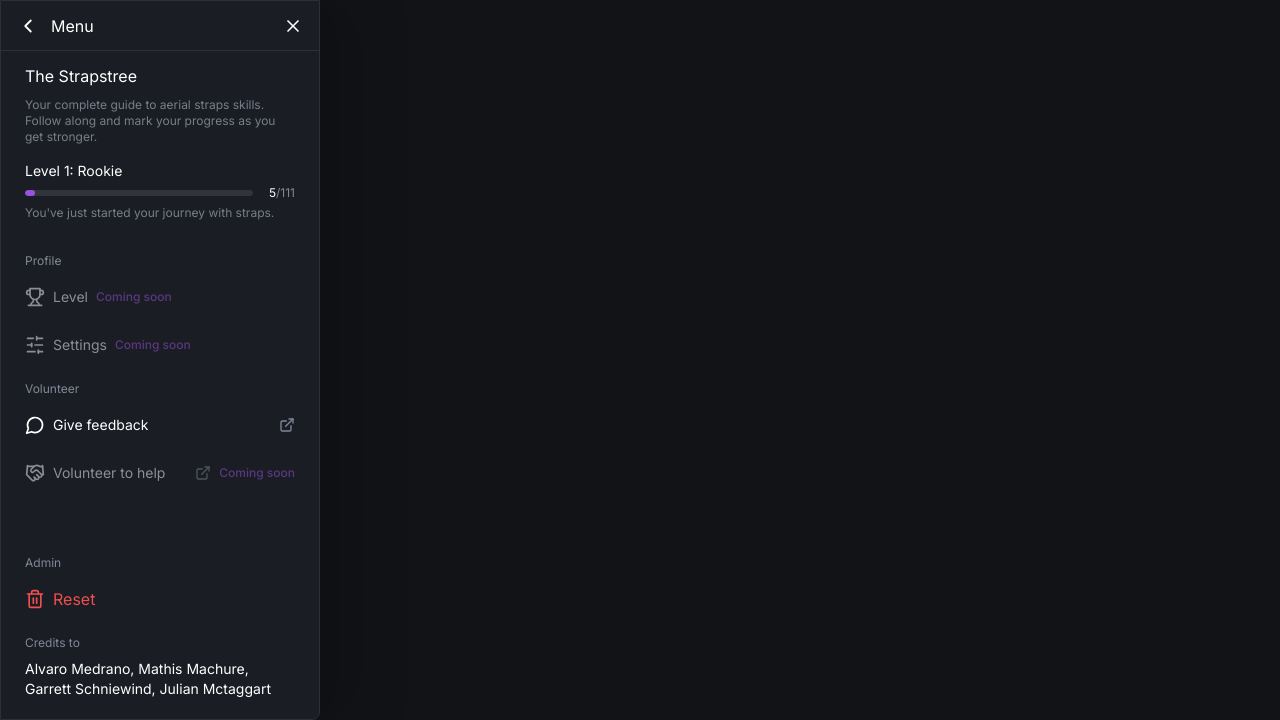
Menu › hides confirmation and shows Reset again when Cancel is clicked
Click the button "Reset".
click(74, 599)  # box [13,579,307,619]
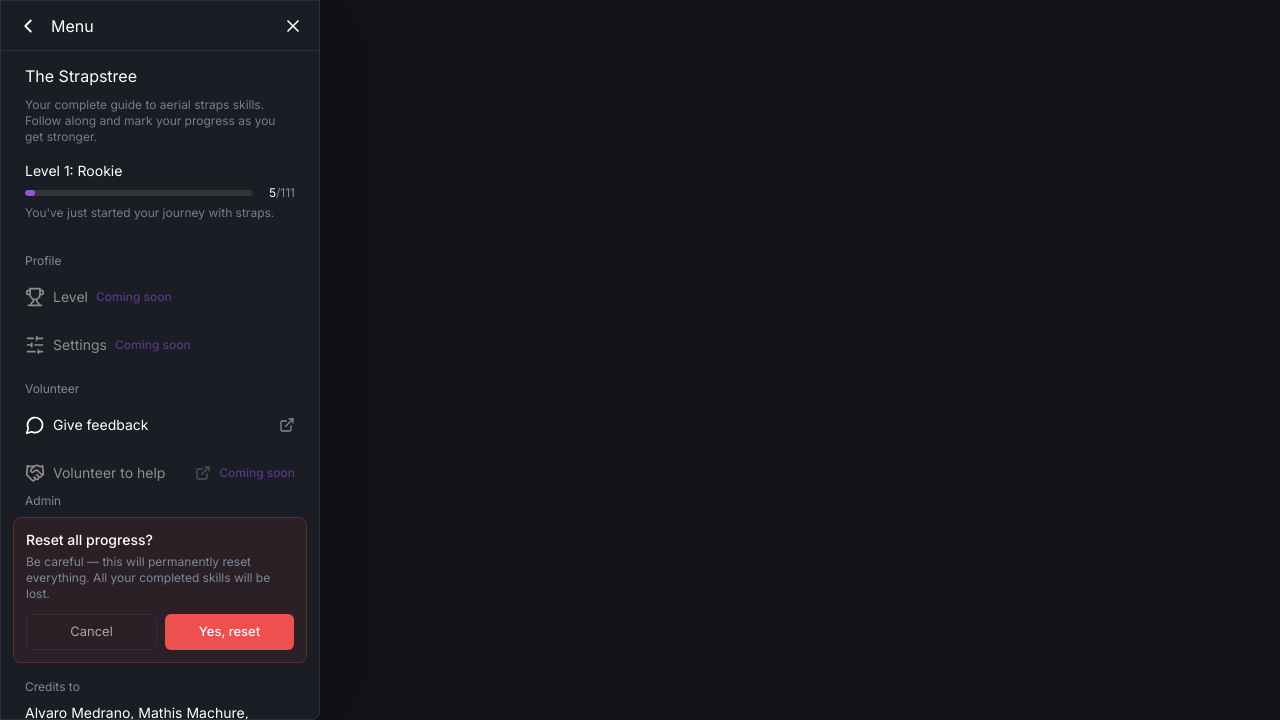
Click the button "Cancel".
click(92, 632)  # box [26,614,157,650]
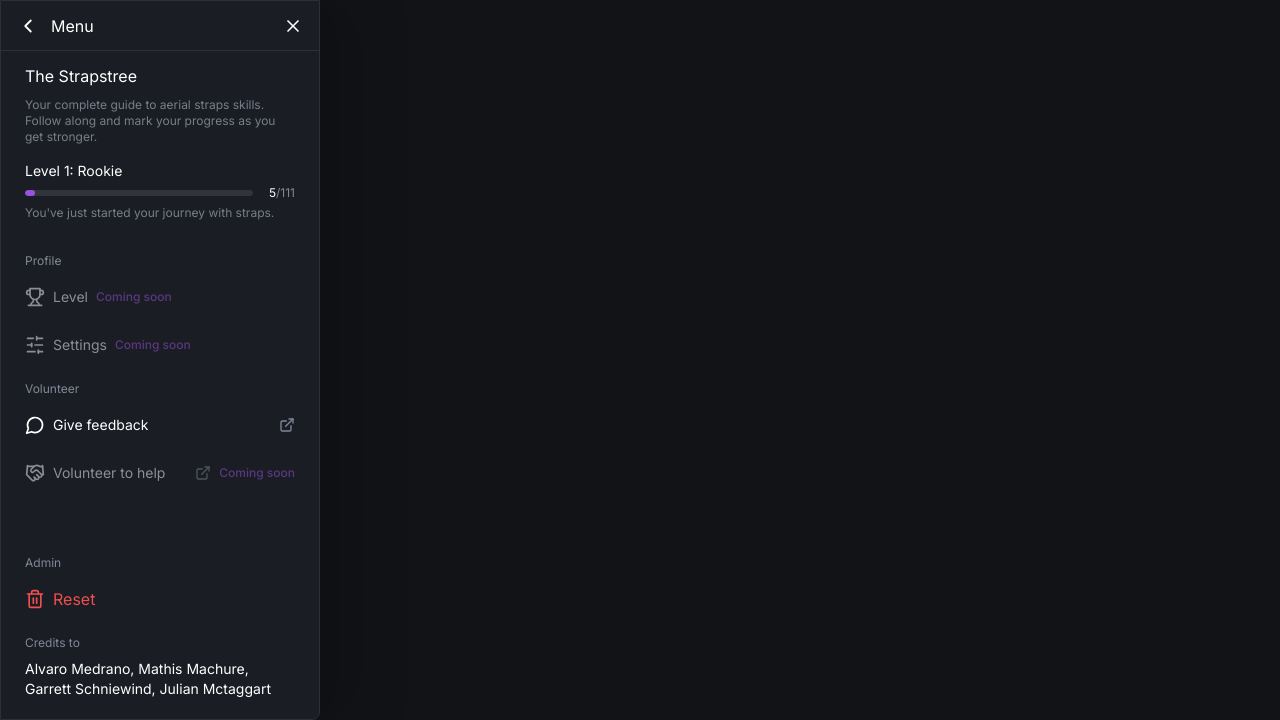
expect the text "Reset" is shown: met, box [53,586,95,612]
expect the text "Reset all progress?" is gone: met
